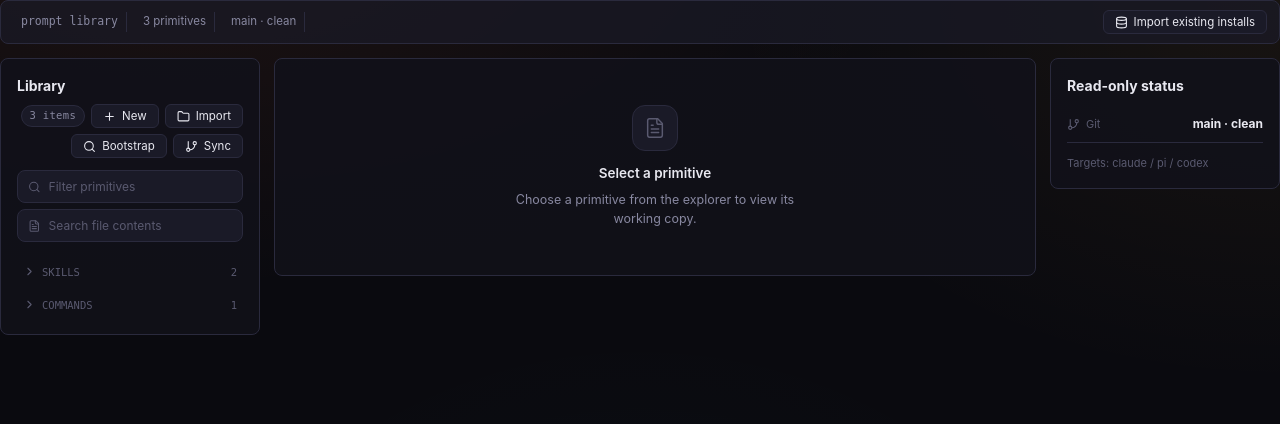
Library route — install rows, two-phase confirm, drift, import › the explorer shows a drift badge for a primitive with a drifted target
What coordinates should you click on to do the following:
click the button "Skills 2"
I would click on:
 (130, 272)
Its box is [17, 258, 243, 285].
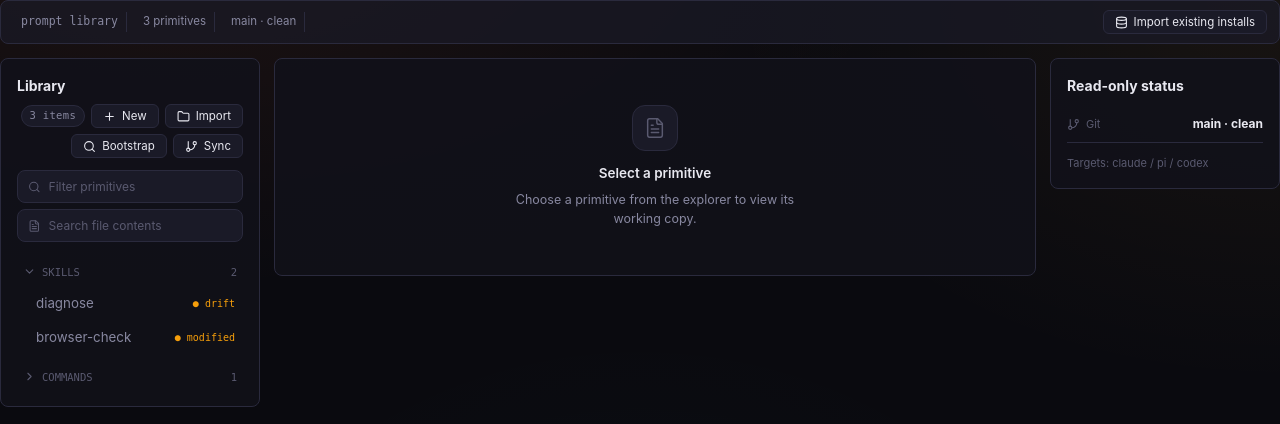
Result: the text "● drift" is shown at [193, 298, 235, 308]
